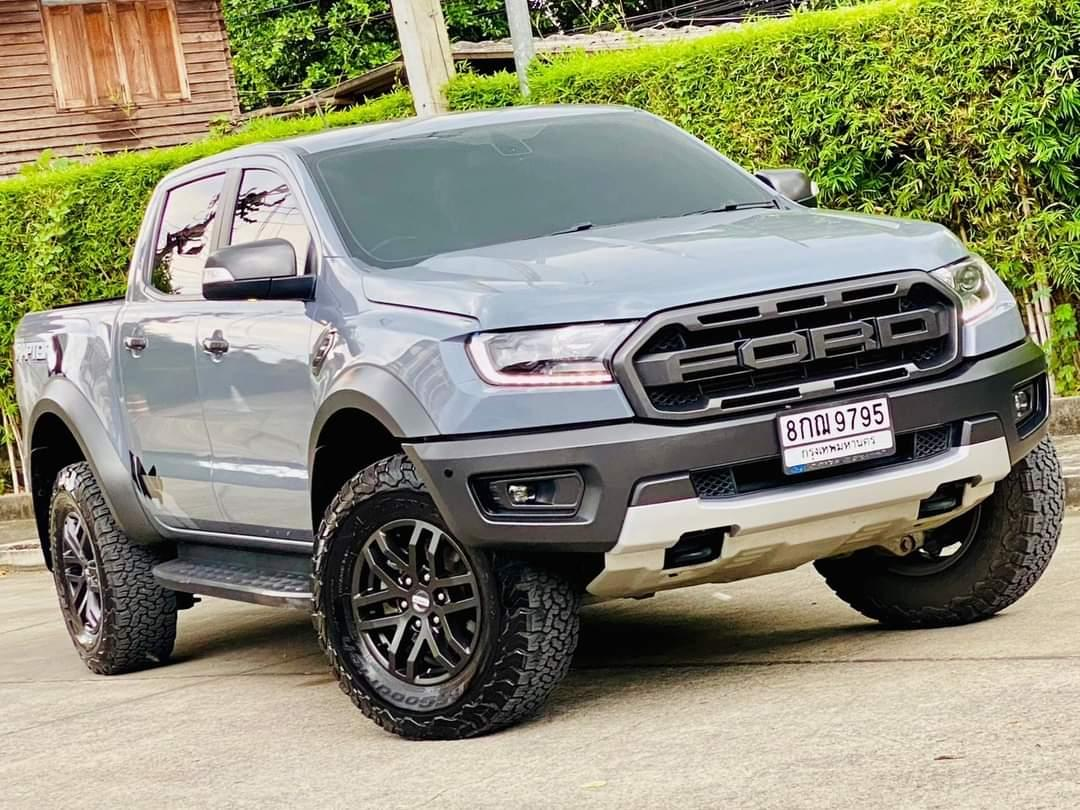license-plate: (780, 393, 902, 478)
